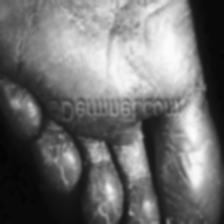Non-Cancerous Skin Condition: (85, 125, 213, 224), (58, 0, 164, 82), (0, 0, 42, 139), (32, 128, 76, 182)
